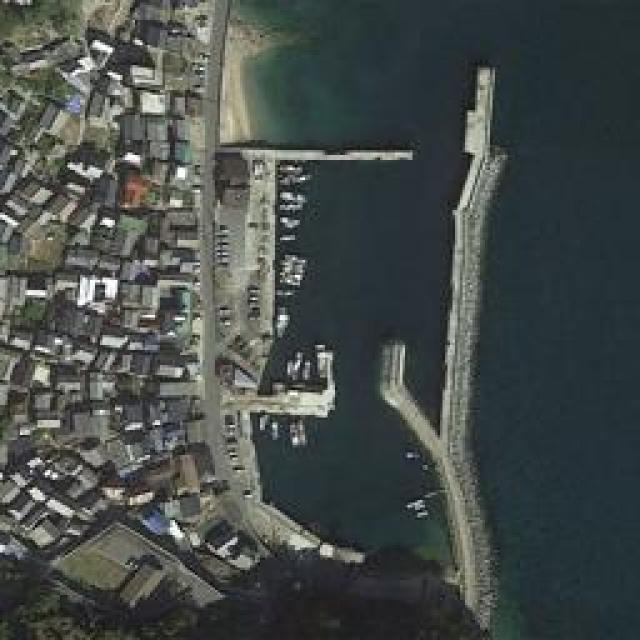City: (0, 0, 233, 638)
Port: (210, 0, 638, 638)
